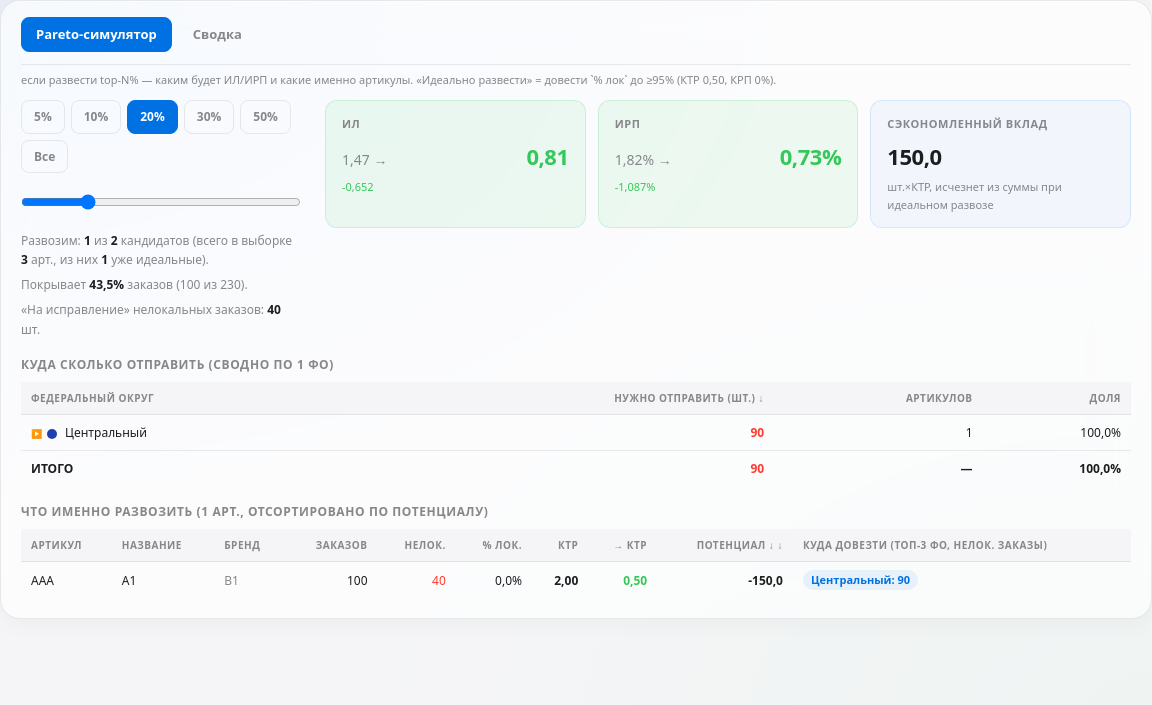
Test case: <LocalizationInsights /> › клик по строке ФО раскрывает список артикулов в этот регион
This screenshot has width=1152, height=705.
Click the button "Все". click: (45, 156)
box: [21, 140, 68, 173]
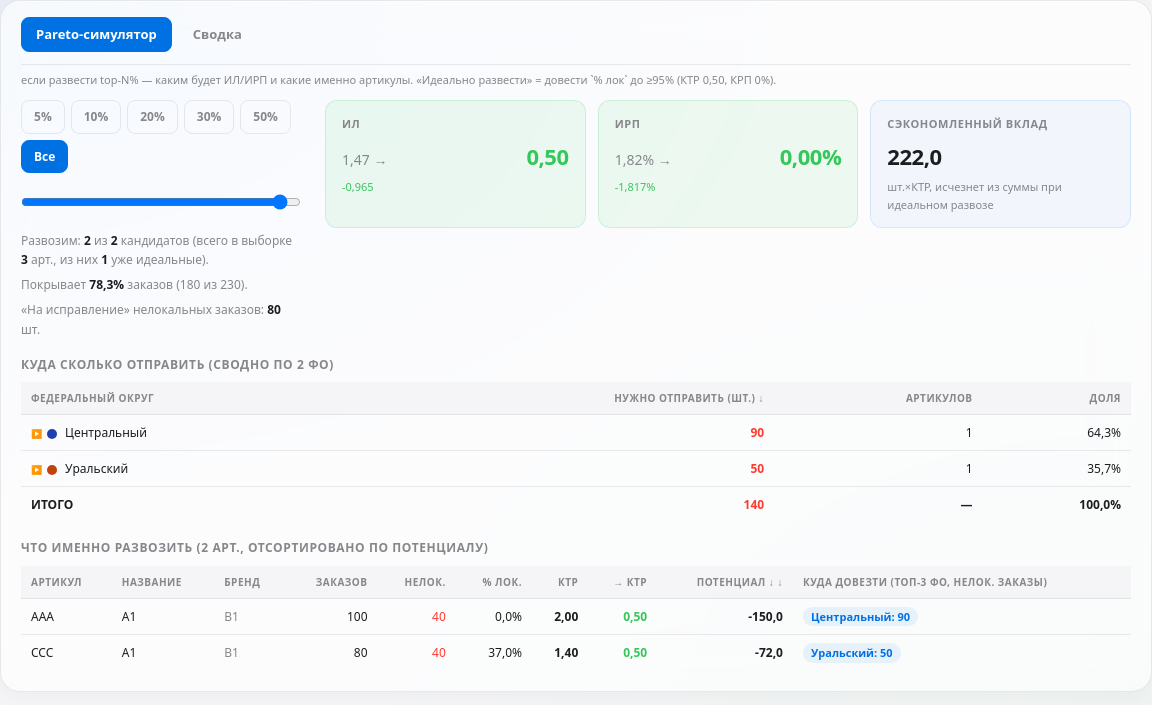
Click the row with test id "region-row-central". click: (576, 433)
box: [21, 415, 1131, 451]
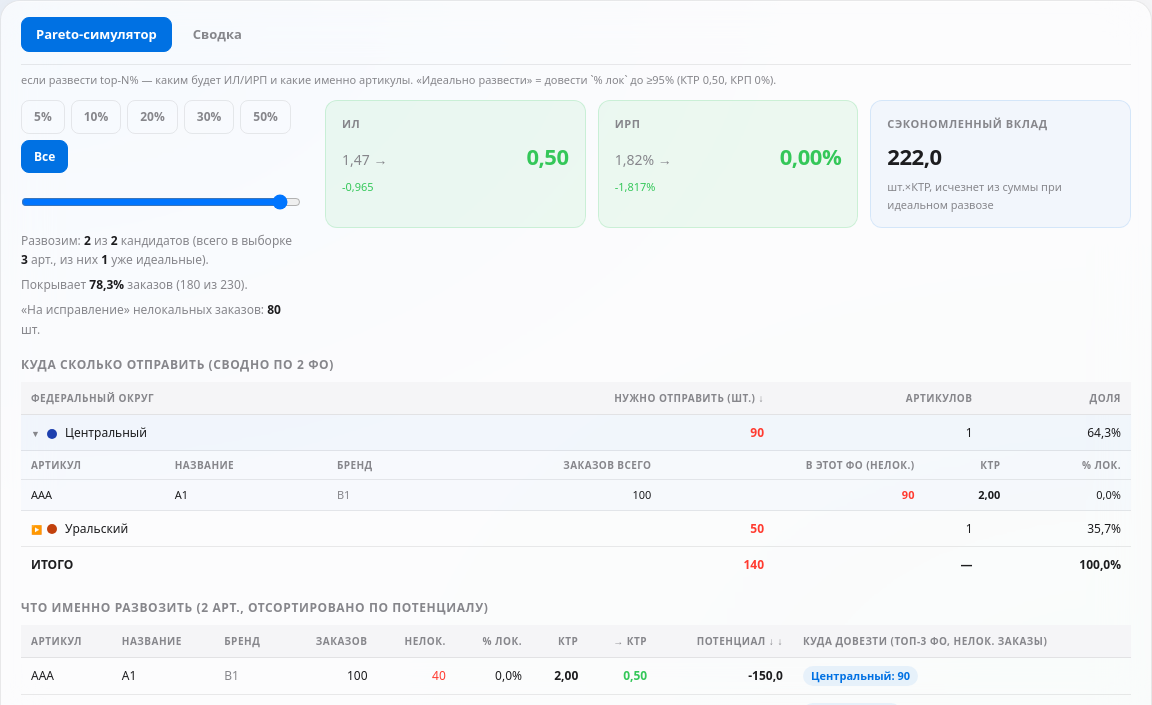
Expected: the row with test id "region-row-central" is expanded
Expected: the 1st text "AAA" is shown, [21, 480, 165, 510]
// Повторный клик — закрывает
Click the row with test id "region-row-central". click: (576, 433)
box: [21, 415, 1131, 451]
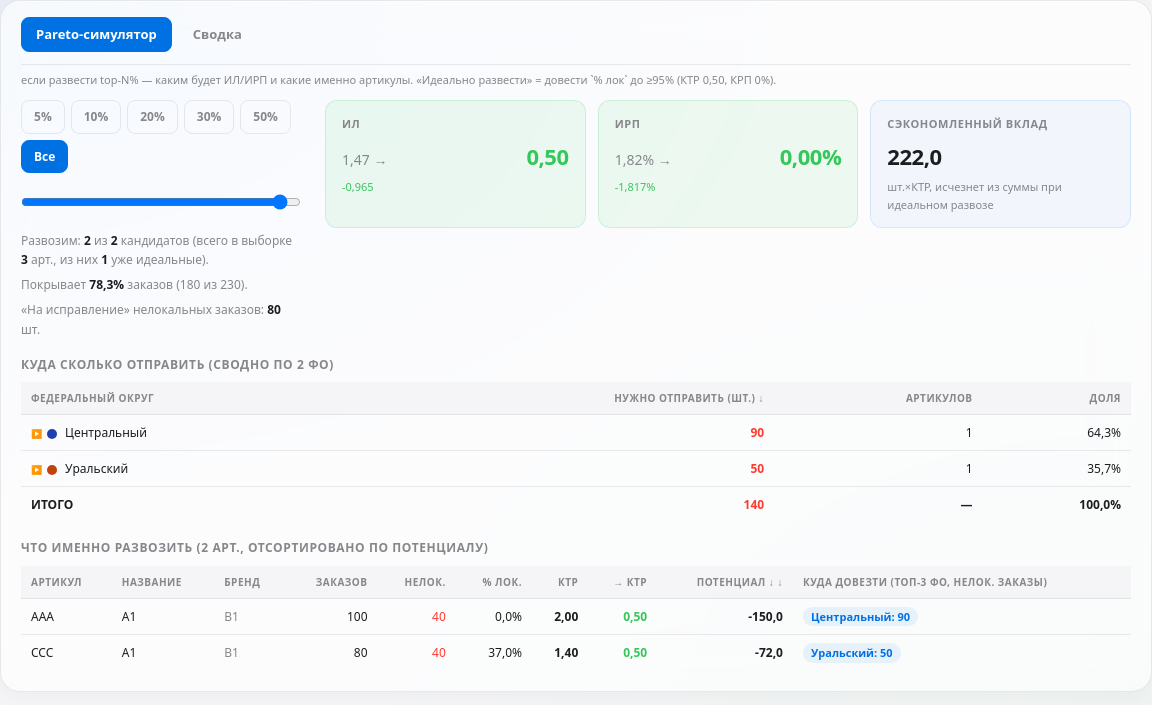
Expected: the row with test id "region-detail-central" is gone
